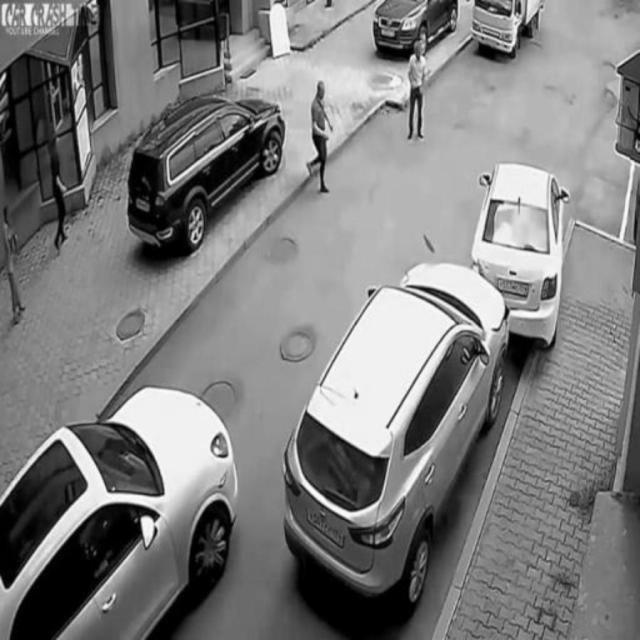accident: (290, 162, 568, 600)
person: (39, 128, 75, 252), (304, 80, 332, 201), (0, 206, 27, 327), (404, 33, 432, 141)
vehicle: (2, 390, 234, 640), (128, 99, 286, 255), (371, 0, 463, 55), (474, 0, 547, 60)
